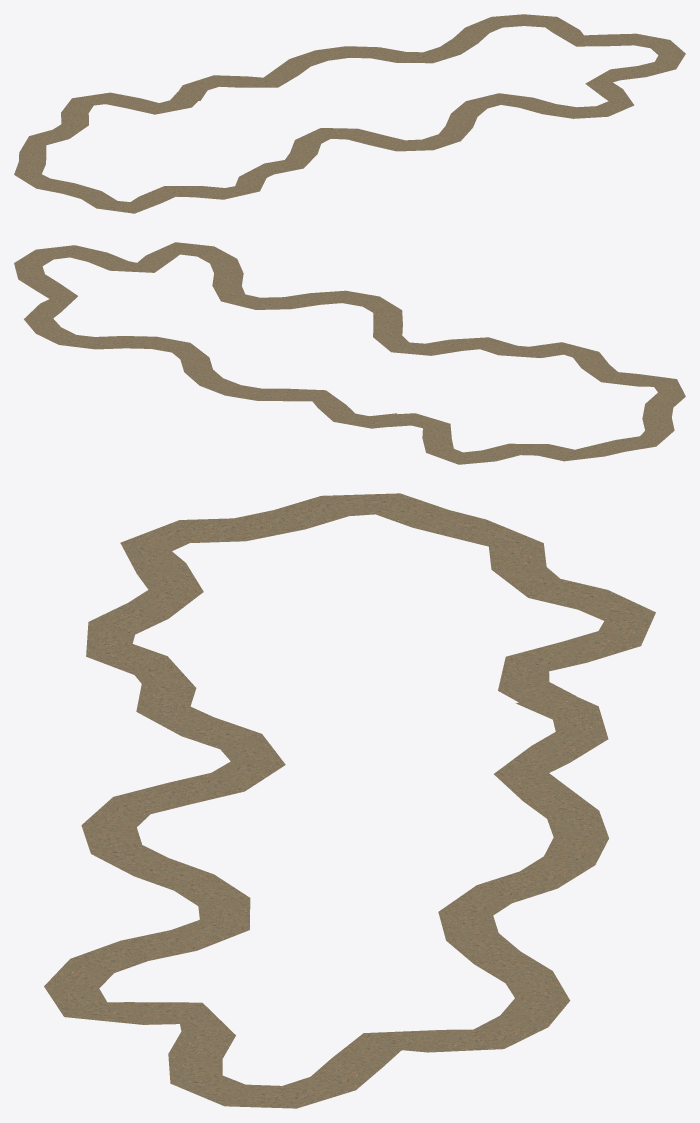
The model's file is dirt_path_curves.dae.
3 renders of one model, top to bottom at view 1: azimuth 30°, elevation 25°; view 2: azimuth 150°, elevation 25°; view 3: azimuth 270°, elevation 25°, orthographic. The views are drawn at different scales.
Visible parts, largest first — view 1: Plane; view 2: Plane; view 3: Plane.
Part boxes in pixels (<box>): Plane: <box>14,14,685,213</box>; Plane: <box>14,242,685,464</box>; Plane: <box>44,493,655,1108</box>.
Size of the model in its own units: 15.7 by 6.6 by 0.
Materials: 1 (1 with a texture image).
